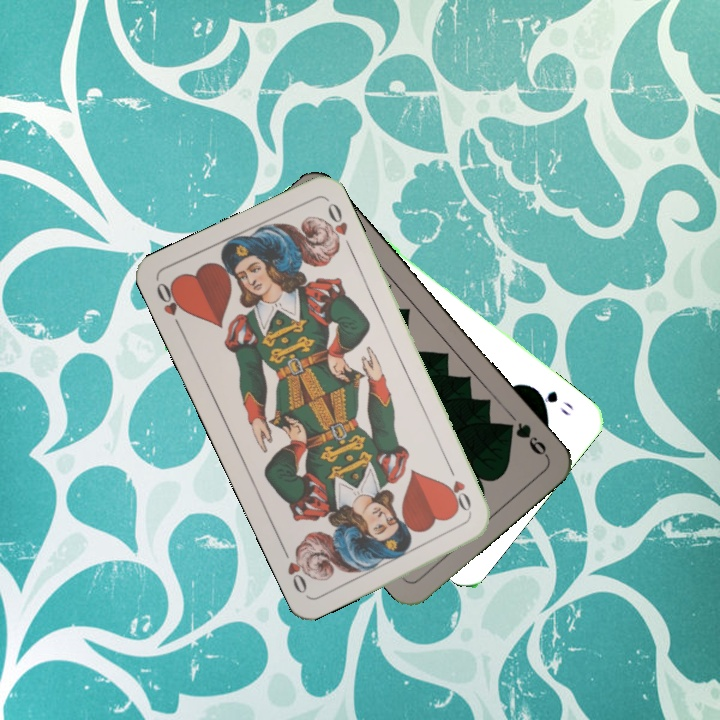G9: (499, 418, 551, 460)
GO: (528, 383, 577, 419)
HO: (152, 278, 188, 334), (444, 461, 475, 518)
